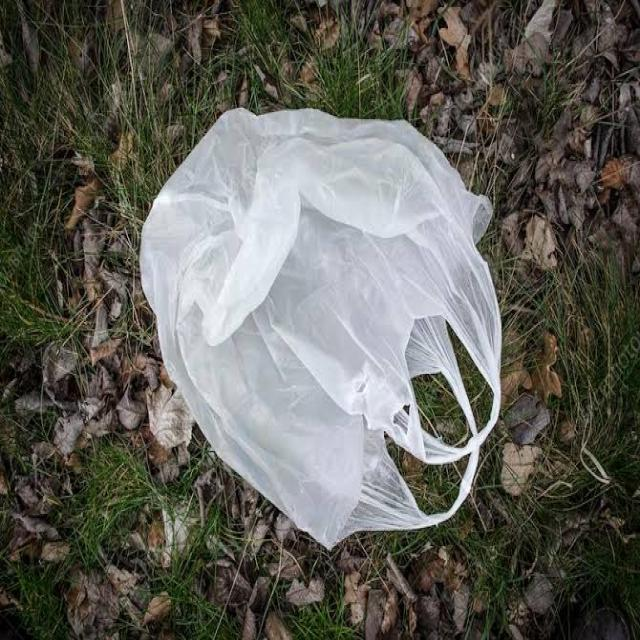plastic bag: (116, 111, 541, 558)
